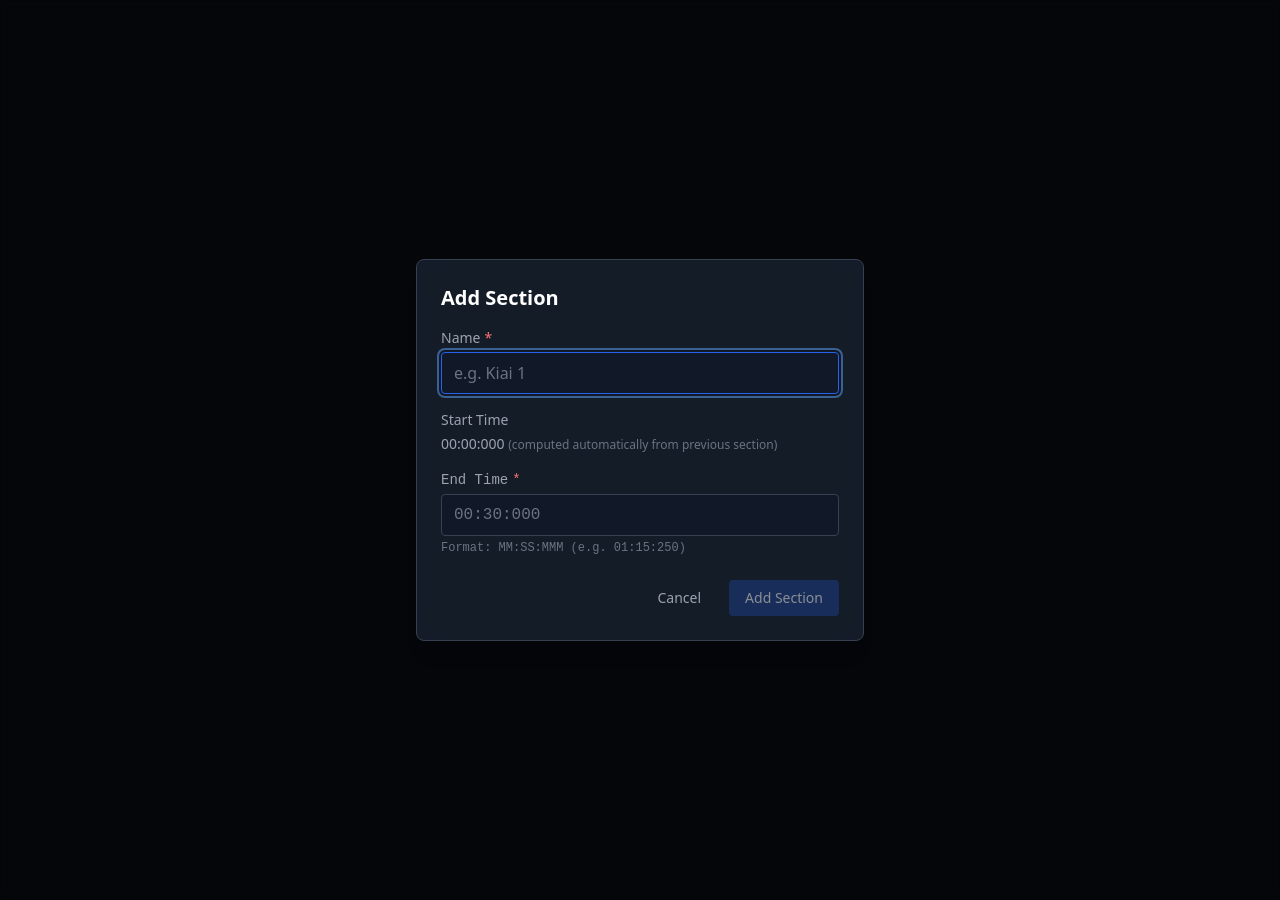
Scenario: CreateSectionModal › shows error when encryption key is missing
Type "Intro" into the field labelled "Name*". click: point(640, 373)
box: [441, 352, 839, 394]
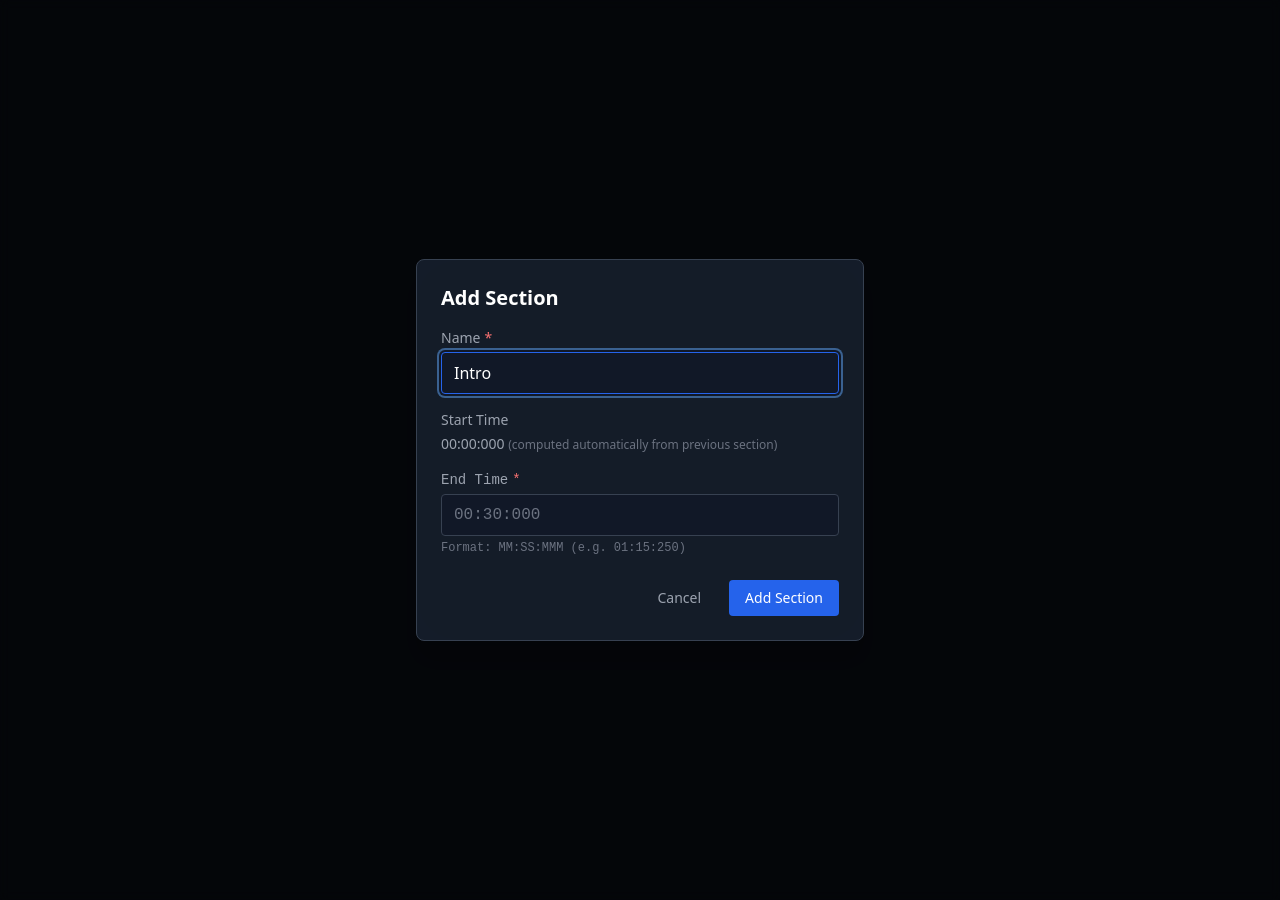
Type "00:00:500" into the field labelled "End Time*". click: point(640, 515)
box: [441, 494, 839, 536]
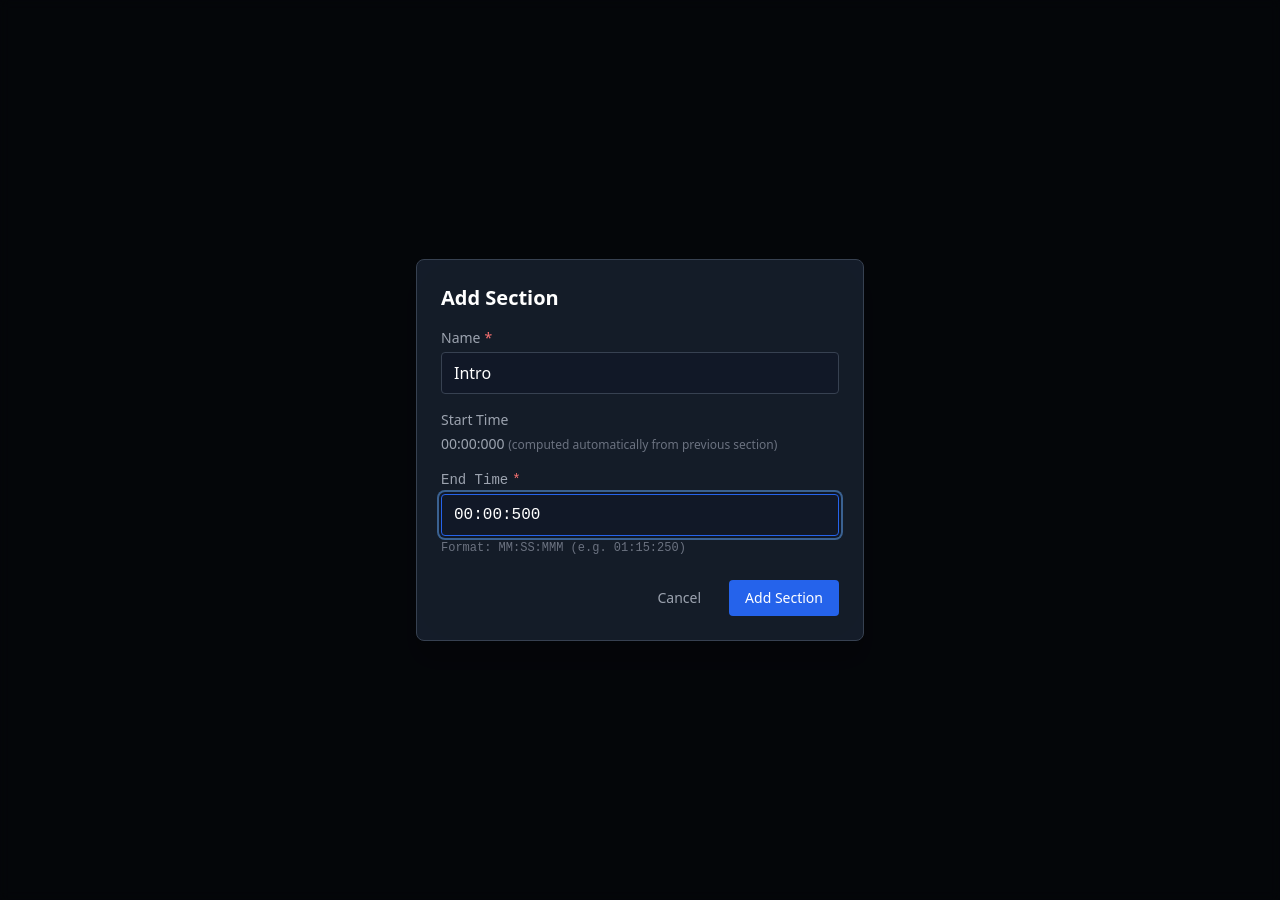
Click the button "Add Section". click: point(784, 598)
box: [729, 580, 839, 616]
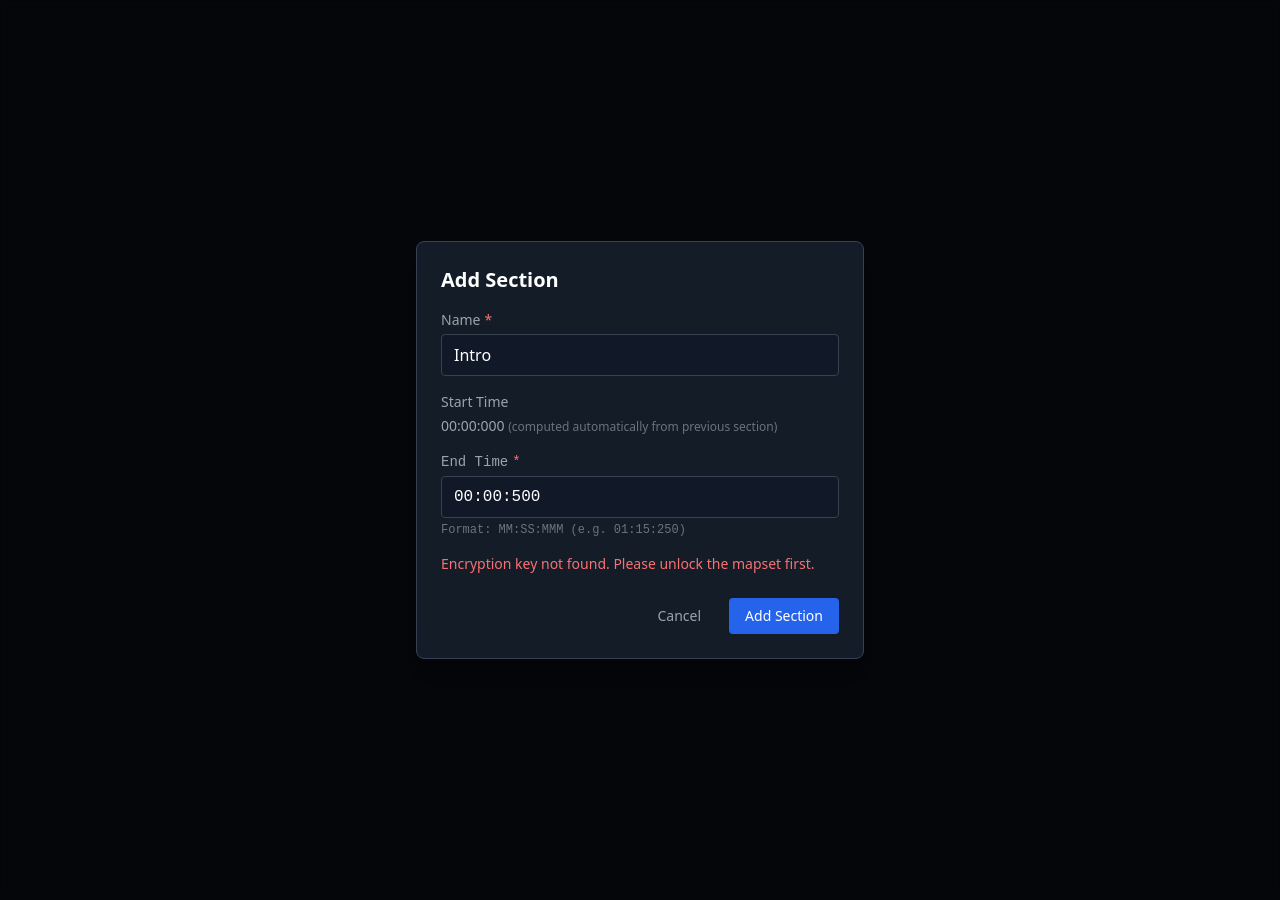
Expected: the message shows "key not found", [441, 554, 814, 573]
